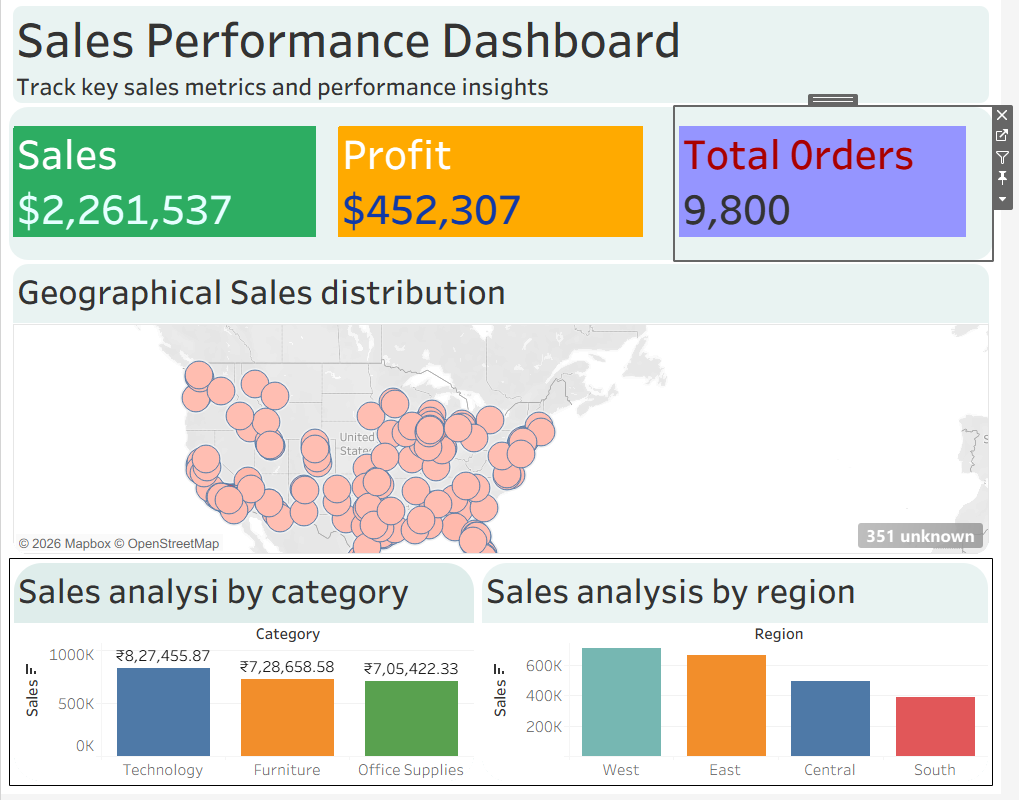

This screenshot's page, from the dashboard's own definition file:
{"tool":"tableau","page":{"name":"Dashboard 1","canvas":[1000,800],"ordinal":0},"visuals":[{"type":"title","box":[8,8,984,105]},{"type":"worksheet","title":"Sheet 5","mark":"Text","box":[8,113,325,153]},{"type":"worksheet","title":"Sheet 6","mark":"Automatic","box":[333,113,341,153]},{"type":"worksheet","title":"Sheet 7","mark":"Automatic","box":[674,113,317,153]},{"type":"worksheet","title":"Sheet 1","mark":"Automatic","box":[8,266,984,298]},{"type":"worksheet","title":"Sales analysi by category","mark":"Automatic","rows":["Sales"],"cols":["Category"],"box":[9,565,468,226]},{"type":"worksheet","title":"Sales analysis by region","mark":"Automatic","rows":["Sales"],"cols":["Region"],"box":[477,565,514,226]}]}

Visuals, with their boxes in screenshot pixels (x1, y1, x2, y2), scaled from the page's 1000x800 canvas onto the 1019x800 screenshot:
title: box(8, 8, 1011, 113)
"Sheet 5" worksheet (Text marks): box(8, 113, 339, 266)
"Sheet 6" worksheet: box(339, 113, 687, 266)
"Sheet 7" worksheet: box(687, 113, 1010, 266)
"Sheet 1" worksheet: box(8, 266, 1011, 564)
"Sales analysi by category" worksheet: box(9, 565, 486, 791)
"Sales analysis by region" worksheet: box(486, 565, 1010, 791)
